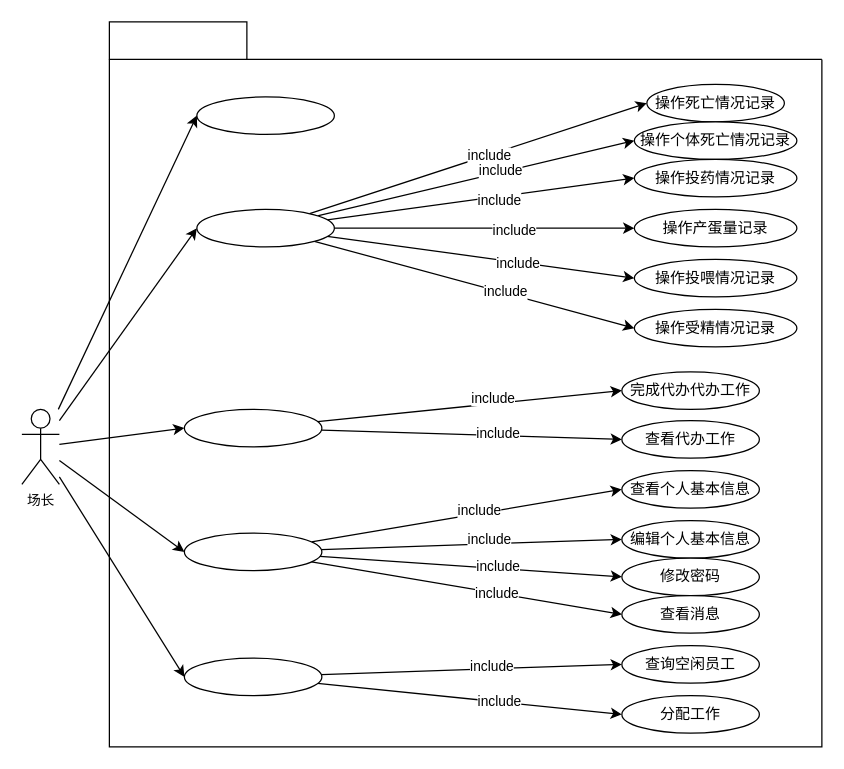
This 844x769 diagram has some shape labels left out. Each missing label, with the centre of its shape:
"个人中心管理" belongs at point 252,551.
"场长用例图" belongs at point 177,40.
"培育记录管理" belongs at point 265,227.
"工作分配管理" belongs at point 252,676.
"登录" belongs at point 265,115.
"首页管理" belongs at point 252,427.
